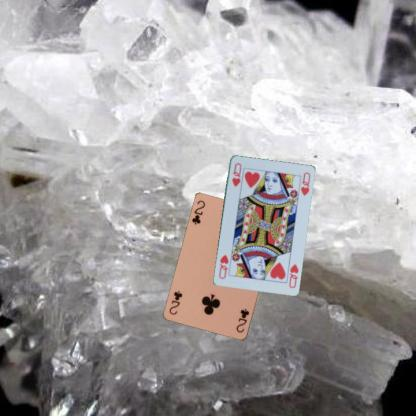2c: (234, 306, 251, 334), (190, 198, 206, 226)
Qh: (229, 160, 243, 188), (286, 261, 299, 290)
